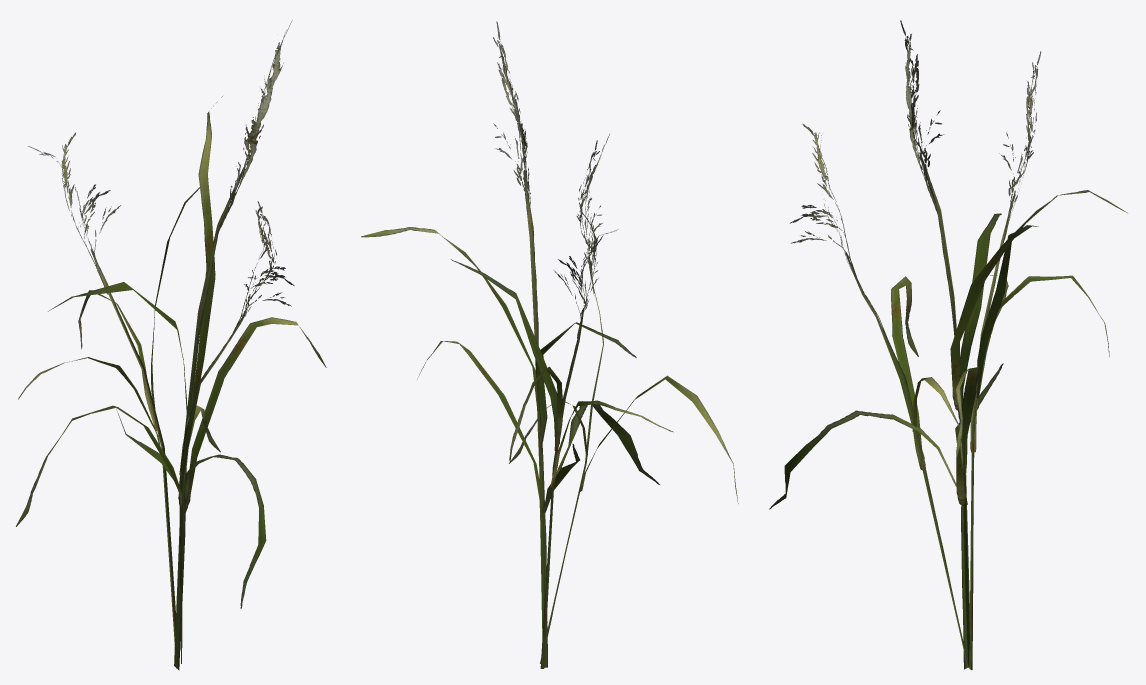
Rendered from grass-medium-01-tall-b.glb.
3 views of the same model, side by side, from view 1: azimuth 30°, elevation 25°; view 2: azimuth 150°, elevation 25°; view 3: azimuth 270°, elevation 25° (orthographic). The views are drawn at different scales.
Visible parts, largest first — view 1: grass_medium_01_tall_b; view 2: grass_medium_01_tall_b; view 3: grass_medium_01_tall_b.
Part boxes in pixels (x1,y1,x2,y2): grass_medium_01_tall_b: [16, 20, 326, 670]; grass_medium_01_tall_b: [361, 21, 738, 668]; grass_medium_01_tall_b: [769, 20, 1127, 669].
Size of the model in its own units: 0.15 by 0.2857 by 0.1348.
Materials: 1 (1 with a texture image).
